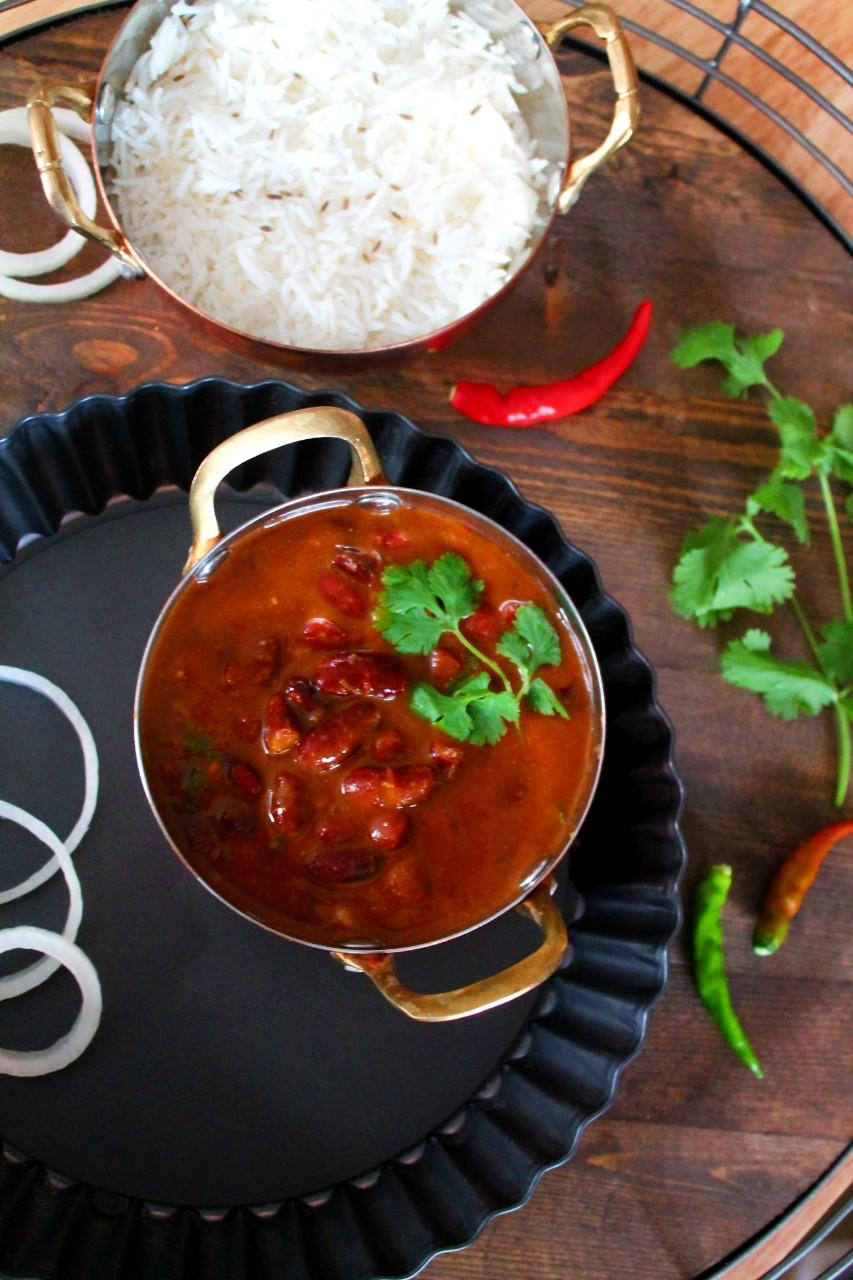rajma: (140, 497, 610, 927)
rice: (127, 0, 547, 337)
